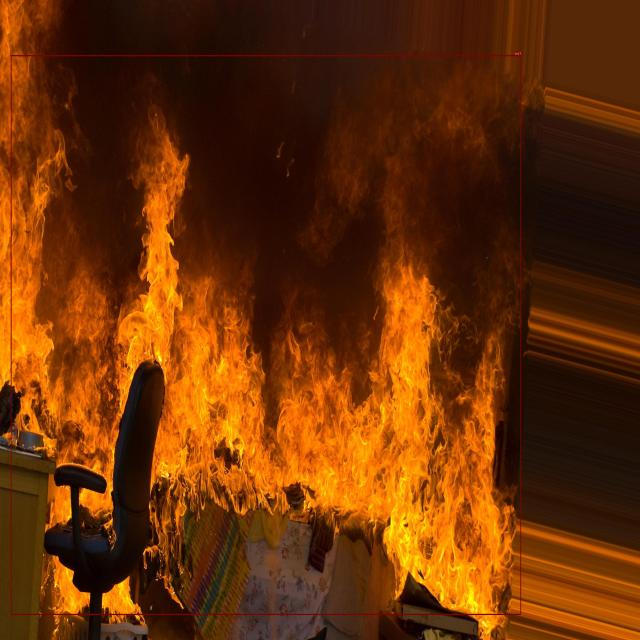fire: (11, 55, 521, 614)
